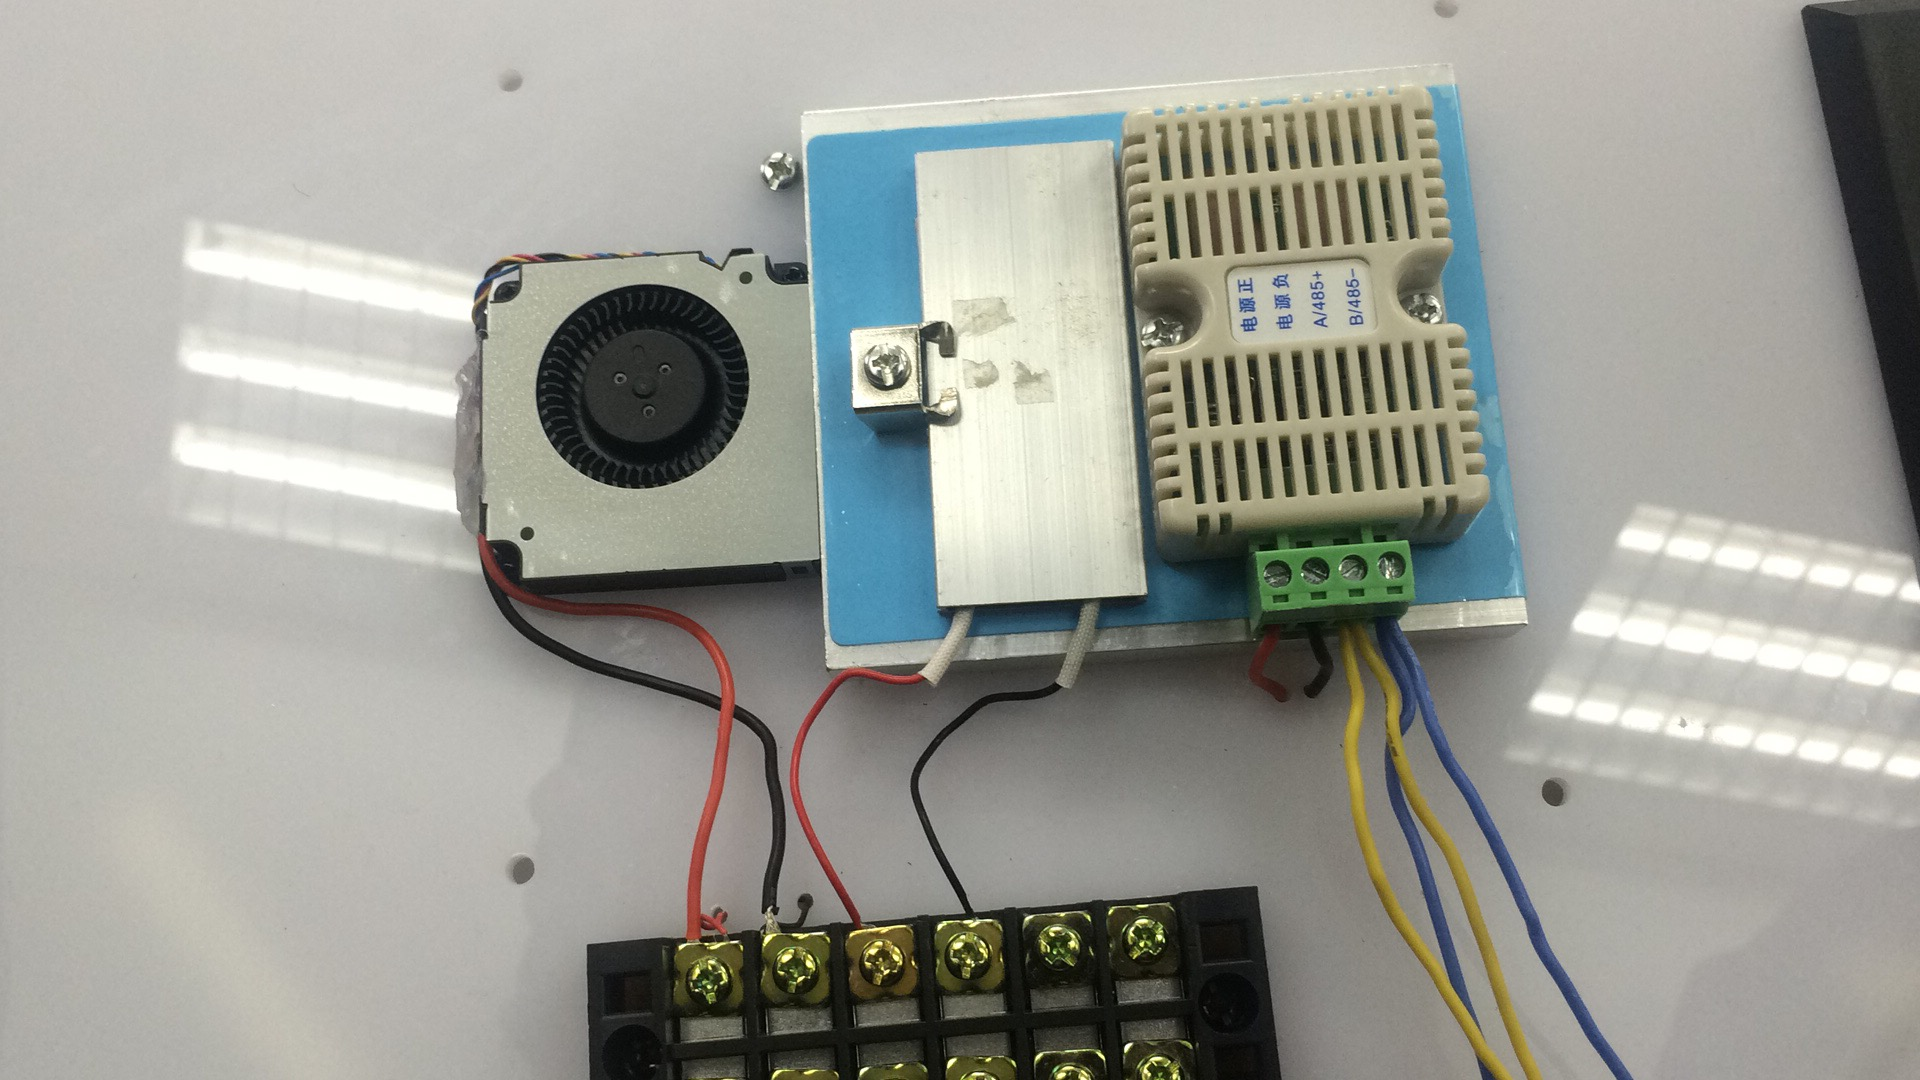fan: (475, 212, 837, 629)
heater: (913, 129, 1171, 615)
temperature: (1116, 94, 1506, 574)
